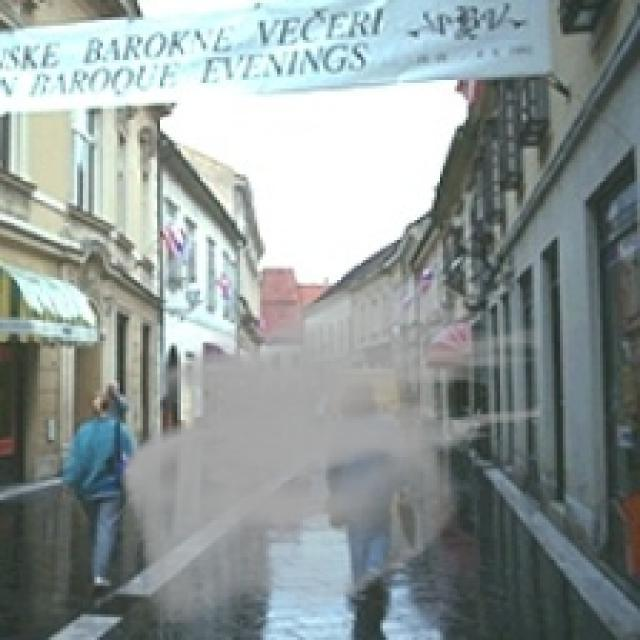Smoke: (120, 268, 546, 626)
